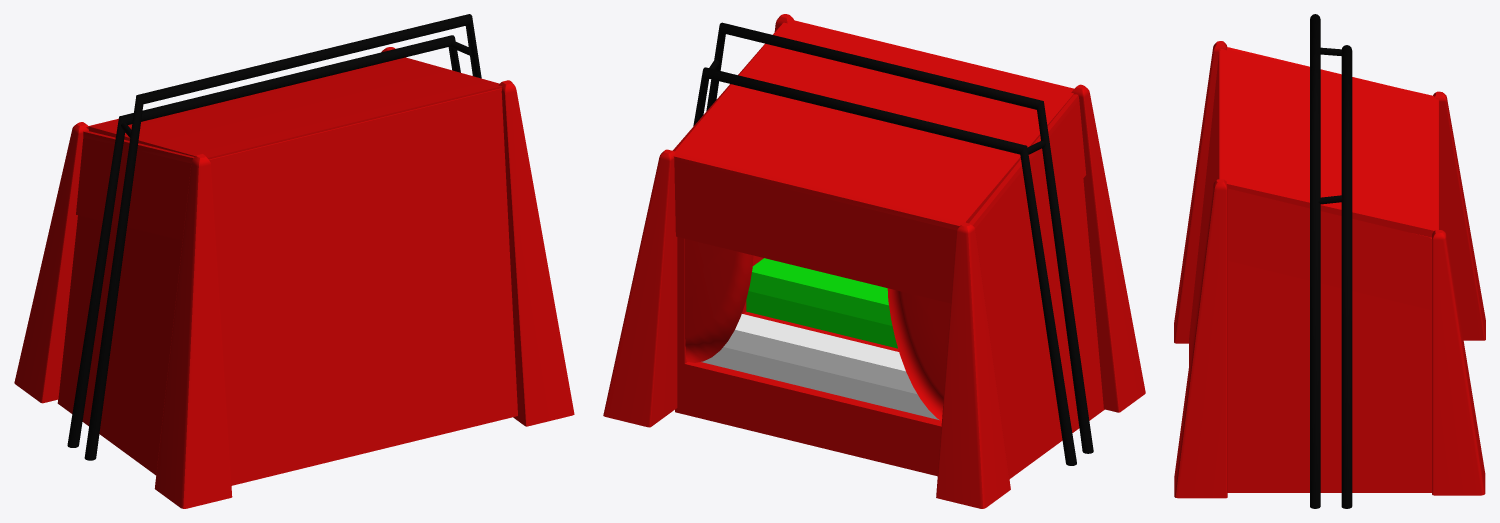
Rendered from CarnivalStall_Proxy.fbx.
3 renders of one model, left to right at view 1: azimuth 30°, elevation 25°; view 2: azimuth 150°, elevation 25°; view 3: azimuth 270°, elevation 25°, orthographic. The views are drawn at different scales.
Visible parts, largest first — view 1: outerWall3, outerWall2, outerSupport3, polySurface2, sign_holder, outerSupport4, outerSupport1, polySurface6, polySurface5; view 2: polySurface2, polySurface1, outerWall2, base, sign_holder, outerSupport1, outerSupport2, front_counter, outerSupport3, polySurface6, curtain2, backCounter (+4 smaller); view 3: outerWall1, polySurface2, polySurface4, outerSupport4, sign_holder, outerSupport2, outerSupport1, outerSupport3, outerWall3.
Part boxes in pixels (x1,y1,x2,y2): outerWall3: (209,88,517,485); outerWall2: (57,215,182,475); outerSupport3: (154,154,232,508); polySurface2: (86,57,502,159); sign_holder: (67,14,481,460); outerSupport4: (498,80,574,426); outerSupport1: (14,122,88,403); polySurface6: (76,137,191,240); polySurface5: (83,131,194,163); polySurface2: (674,19,1073,230); polySurface1: (674,161,956,303); outerWall2: (985,179,1104,478); base: (675,311,941,476); sign_holder: (693,22,1093,465); outerSupport1: (936,222,1010,508); outerSupport2: (603,149,677,427); front_counter: (701,314,939,420); outerSupport3: (1071,84,1145,412); polySurface6: (975,100,1086,299); curtain2: (685,239,753,362); backCounter: (746,258,897,348); outerWall1: (1227,234,1431,492); polySurface2: (1220,48,1438,237); polySurface4: (1227,188,1431,309); outerSupport4: (1174,179,1227,498); sign_holder: (1310,14,1352,508); outerSupport2: (1432,230,1485,495); outerSupport1: (1433,91,1485,340); outerSupport3: (1174,41,1227,343); outerWall3: (1189,50,1220,365).
Size of the model in its own units: 873 by 670 by 586.
